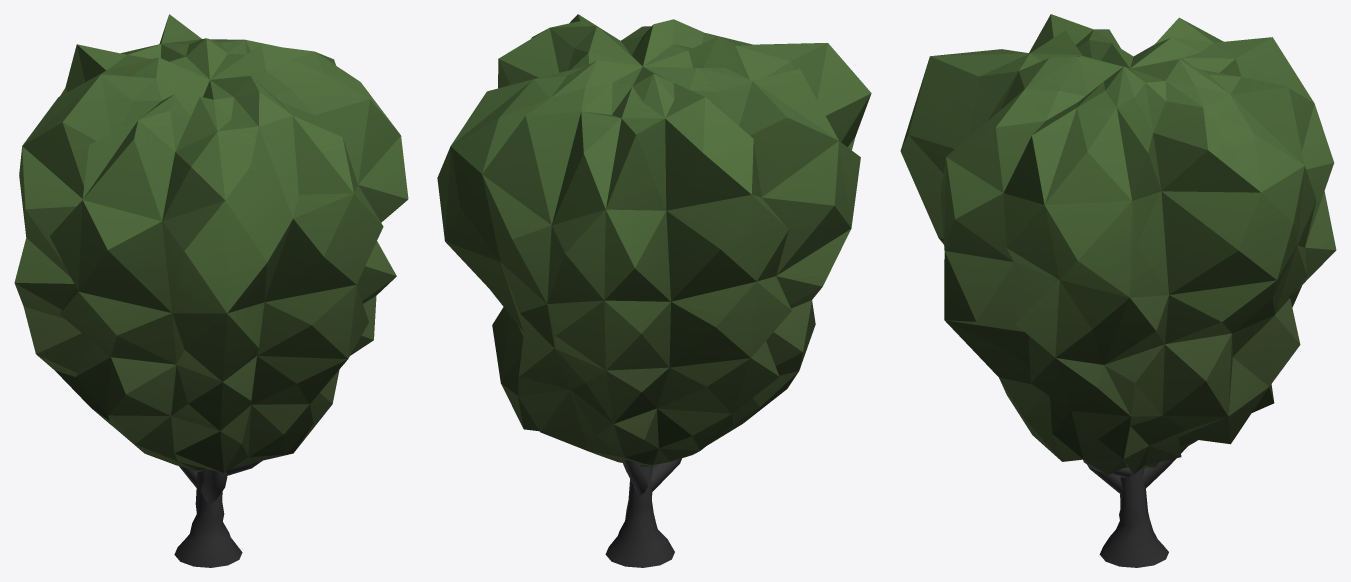
File: tree1.fbx
The picture shows the model from 3 angles, left to right: view 1: azimuth 30°, elevation 25°; view 2: azimuth 150°, elevation 25°; view 3: azimuth 270°, elevation 25°; orthographic projection. The views are drawn at different scales.
Parts seen in each view (by area): view 1: tree_1; view 2: tree_1; view 3: tree_1.
Boxes of the visible parts, box(x1,y1,x2,y2) form: tree_1: box(14, 14, 408, 567); tree_1: box(437, 14, 871, 567); tree_1: box(900, 14, 1336, 567).
Bounding box in the file's own units: 8.8 × 12.32 × 9.53.
Materials: 1 (1 with a texture image).
